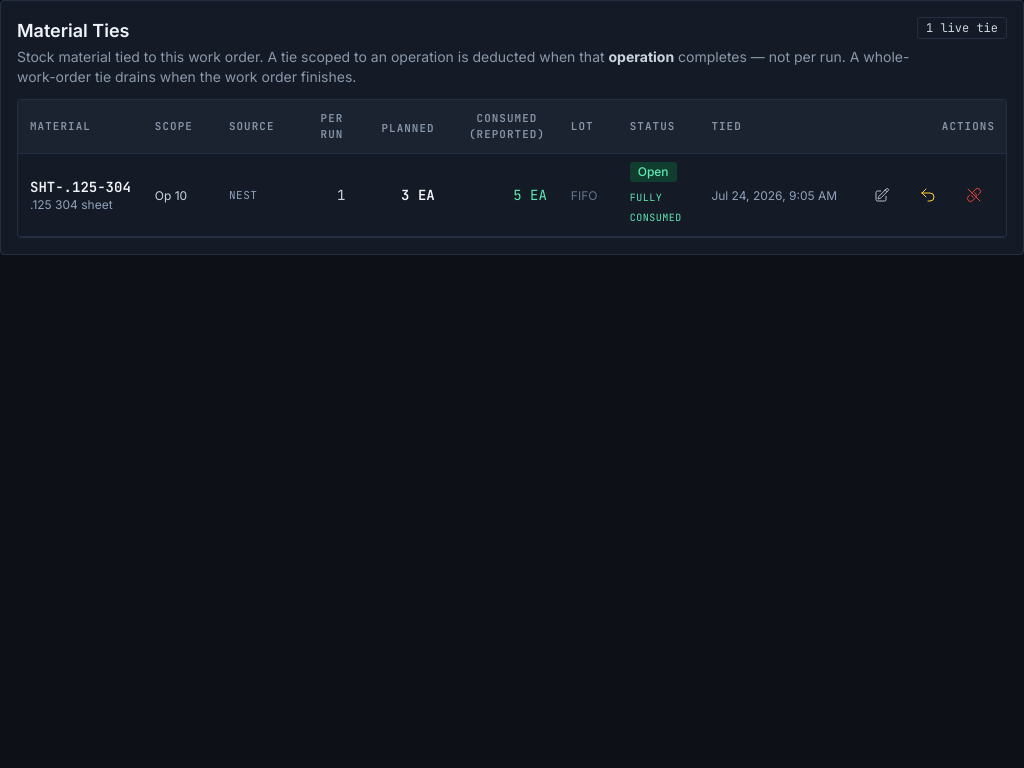
Test case: MaterialTiesPanel — the reasoned RETURN verb › confirms with the LOTS the server credited, read off the real response shape
Check: the text "SHT-.125-304" is shown, box x1=30 y1=177 x2=131 y2=197
Click the button named "Return consumed SHT-.125-304 to stock" at (928, 195), box x1=907 y1=179 x2=949 y2=211
(page scrolled)
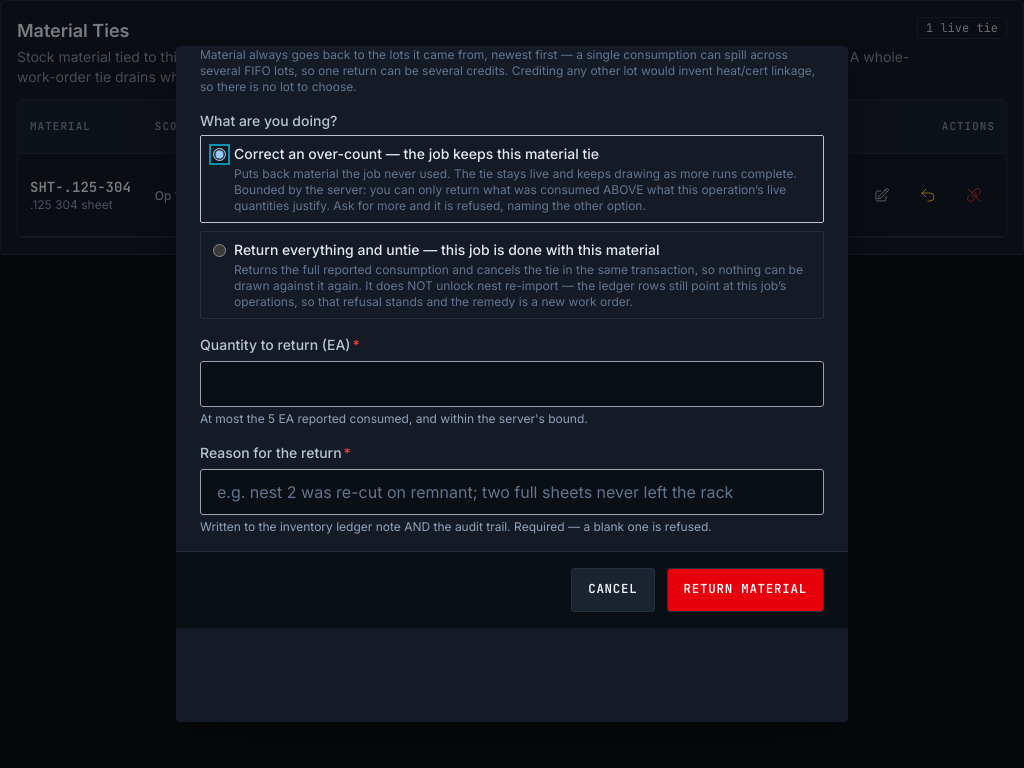
Type "4" into the number field labelled "Quantity to return (EA)*" at (512, 384), box x1=200 y1=361 x2=824 y2=407
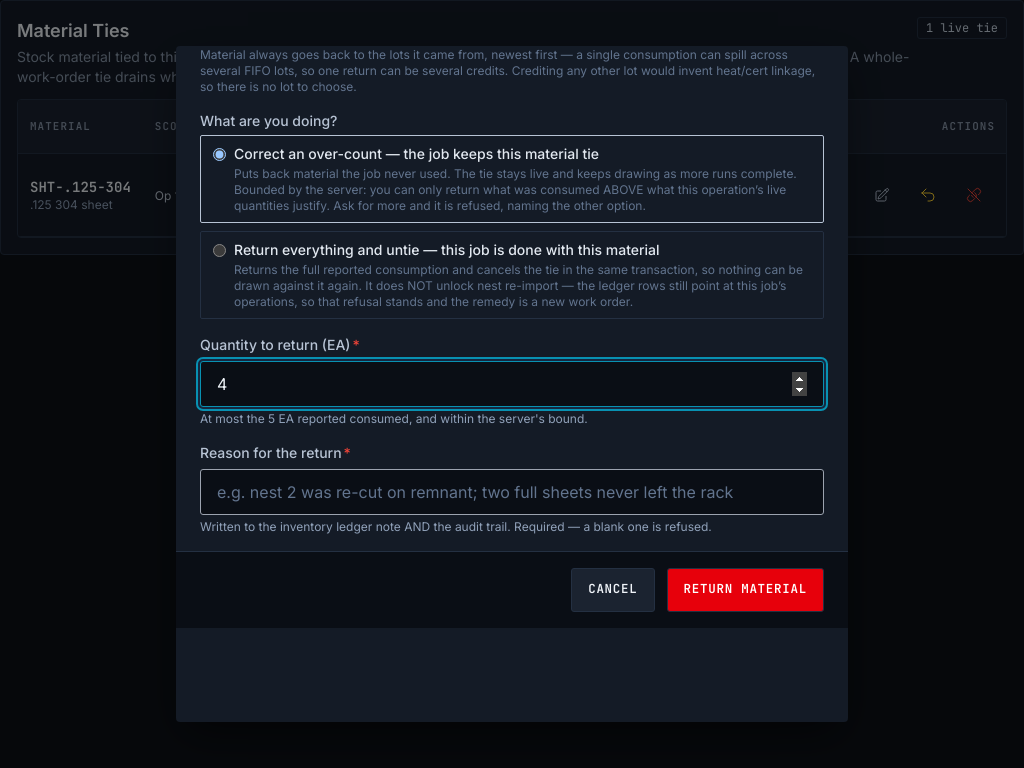
Type "four sheets back on the rack" into the field labelled "Reason for the return*" at (512, 492), box x1=200 y1=469 x2=824 y2=515
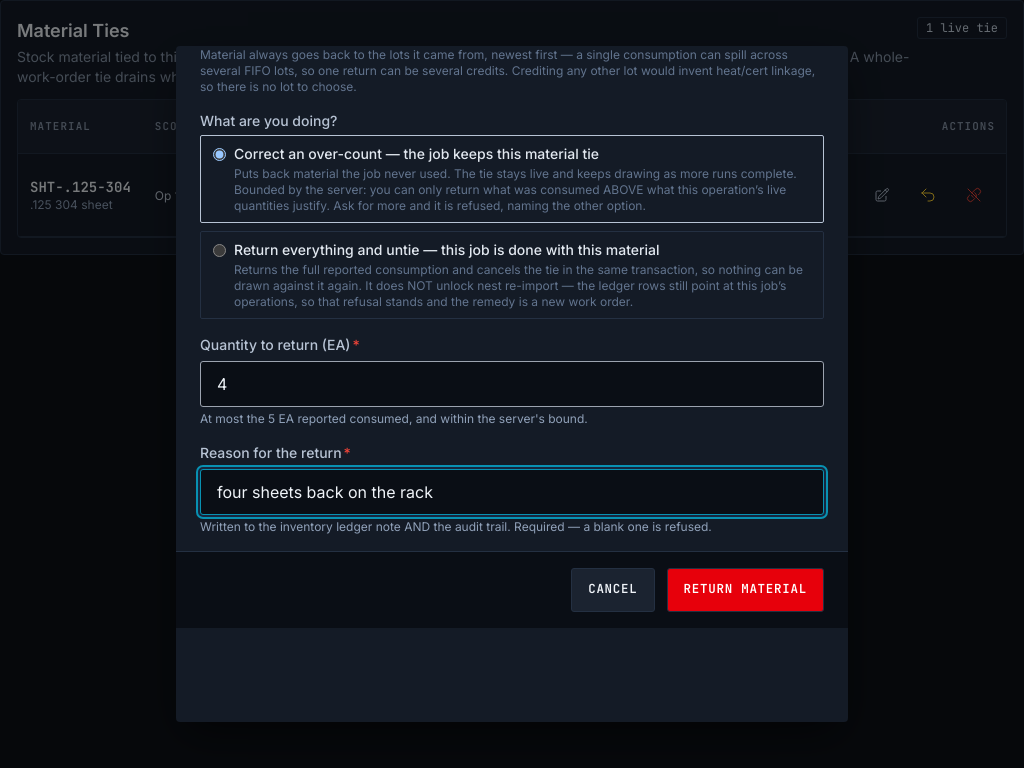
Click the button "Return material" at (745, 590), box x1=666 y1=568 x2=824 y2=612
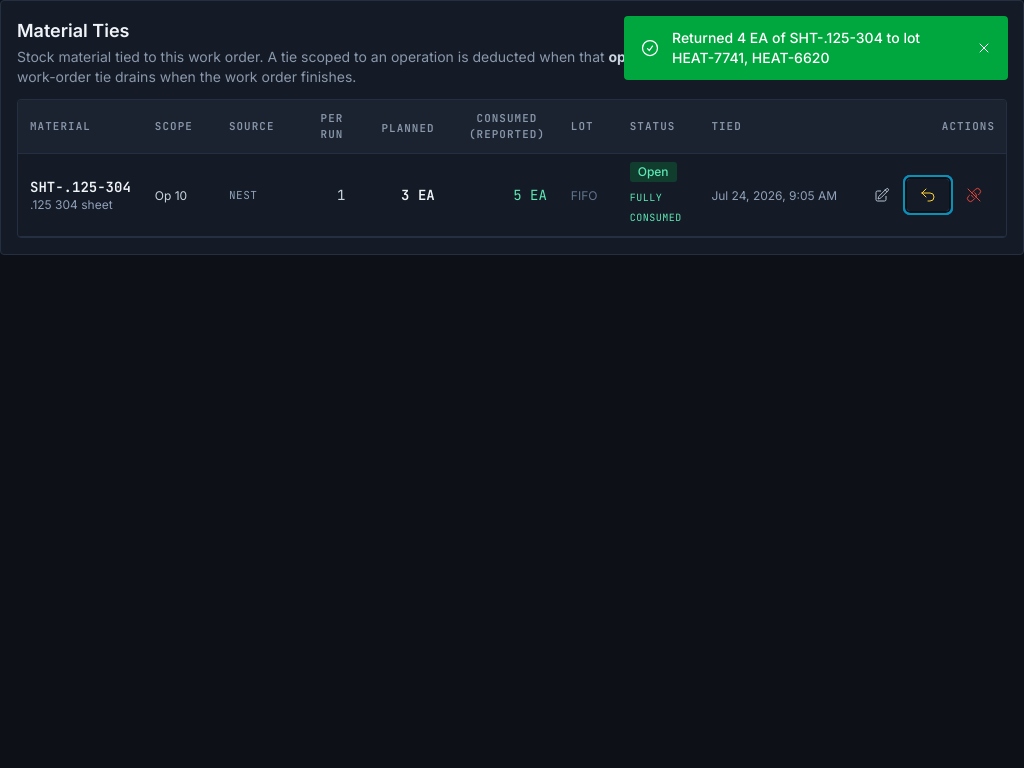
Check: the text "Returned 4 EA of SHT-.125-304 to lot HEAT-7741, HEAT-6620" is shown, box x1=672 y1=29 x2=920 y2=66
